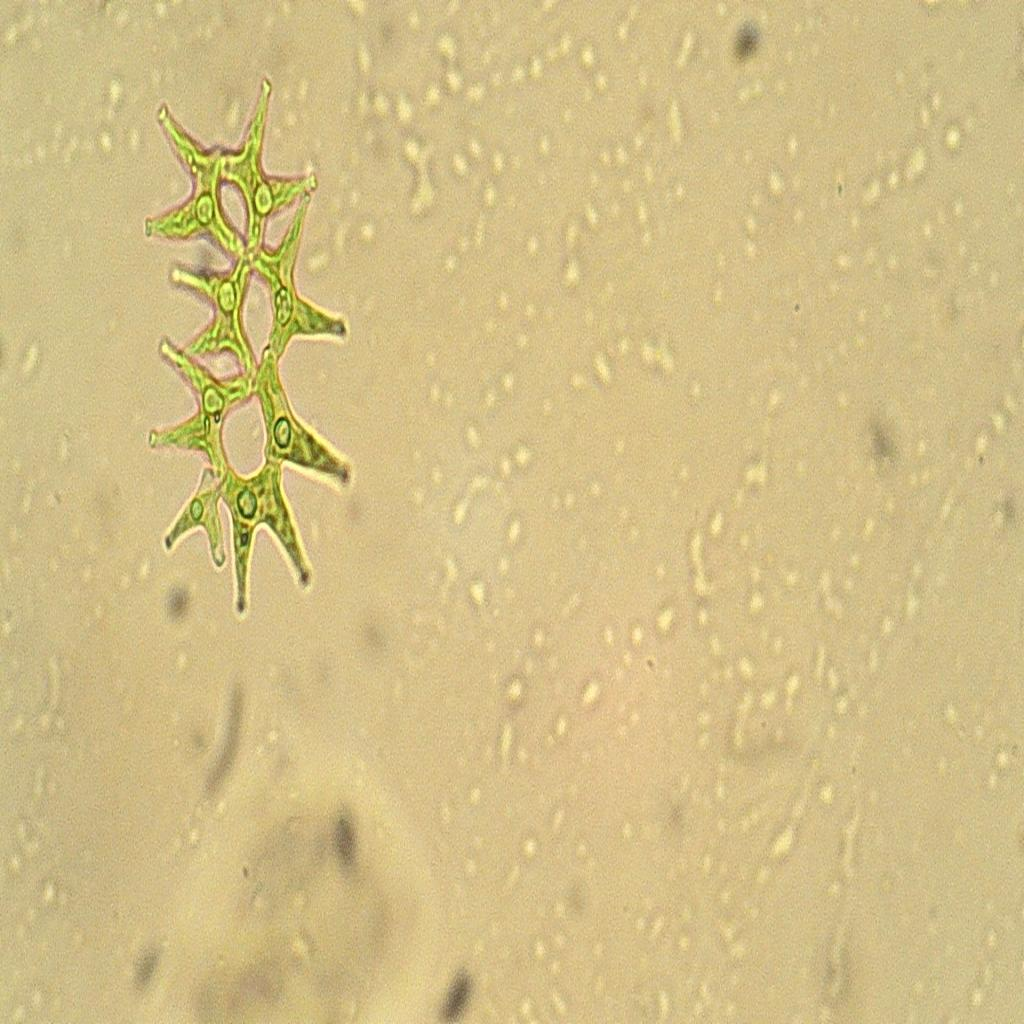Pediastrum_CFI: (142, 56, 367, 663)
